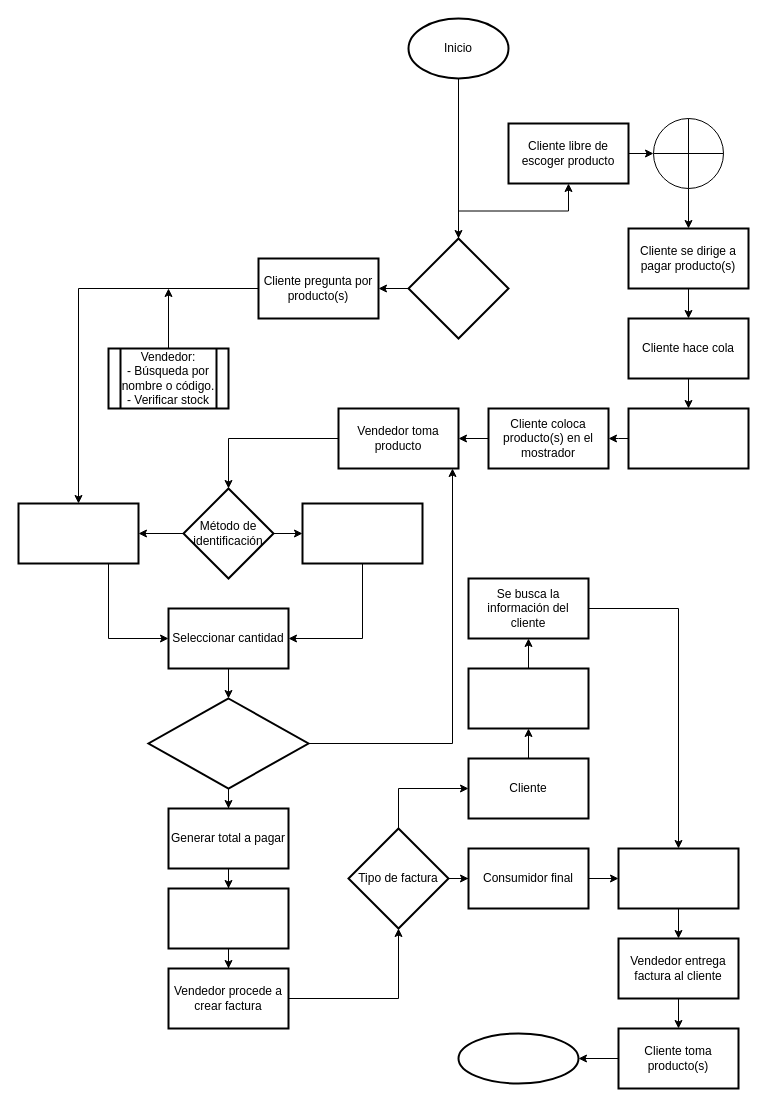
Some shapes in this 766 by 1106 pixel diagram are drawn without their labels. The box of each missing label's shape, as (x1, y1, x2, y2) in pixels:
Agregar producto a la lista: (147, 697, 309, 789)
Buscar producto manualmente: (17, 502, 139, 564)
Cliente esta en el mostrador: (627, 407, 749, 469)
Cliente procede a pagar: (167, 887, 289, 949)
Escanear código: (301, 502, 423, 564)
Fin: (457, 1032, 579, 1084)
Se procede a generar factura: (617, 847, 739, 909)
Tipo de negocio: (407, 237, 509, 339)
Vendedor pide código del cliente: (467, 667, 589, 729)
